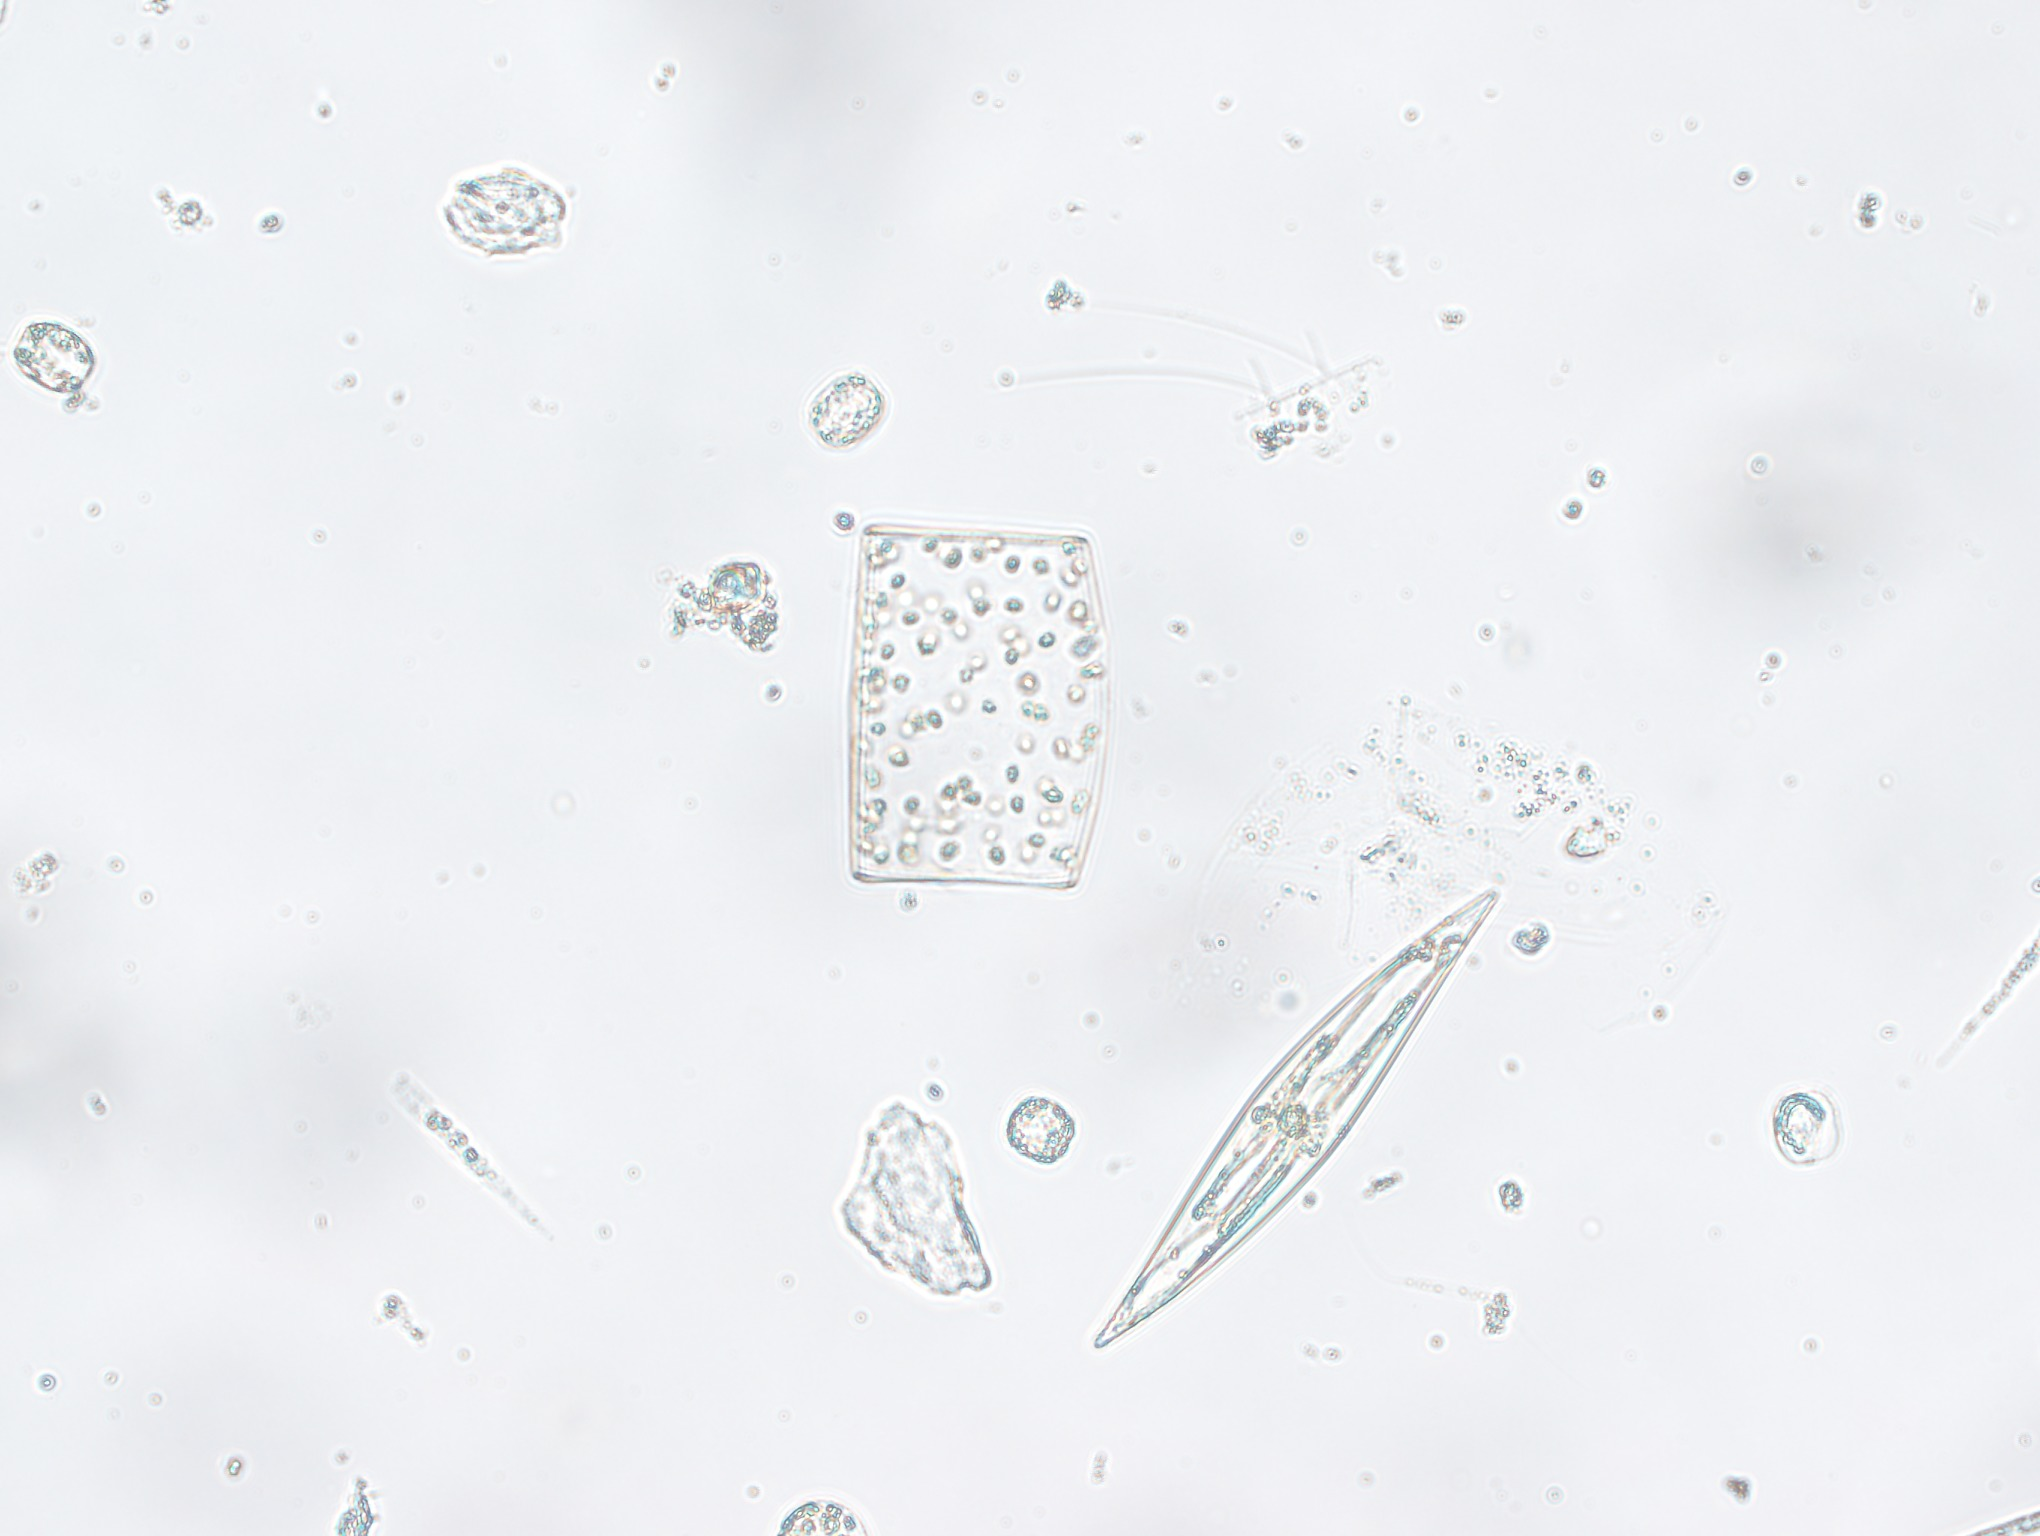pleurosigma pelagicum: (1093, 863, 1508, 1365)
